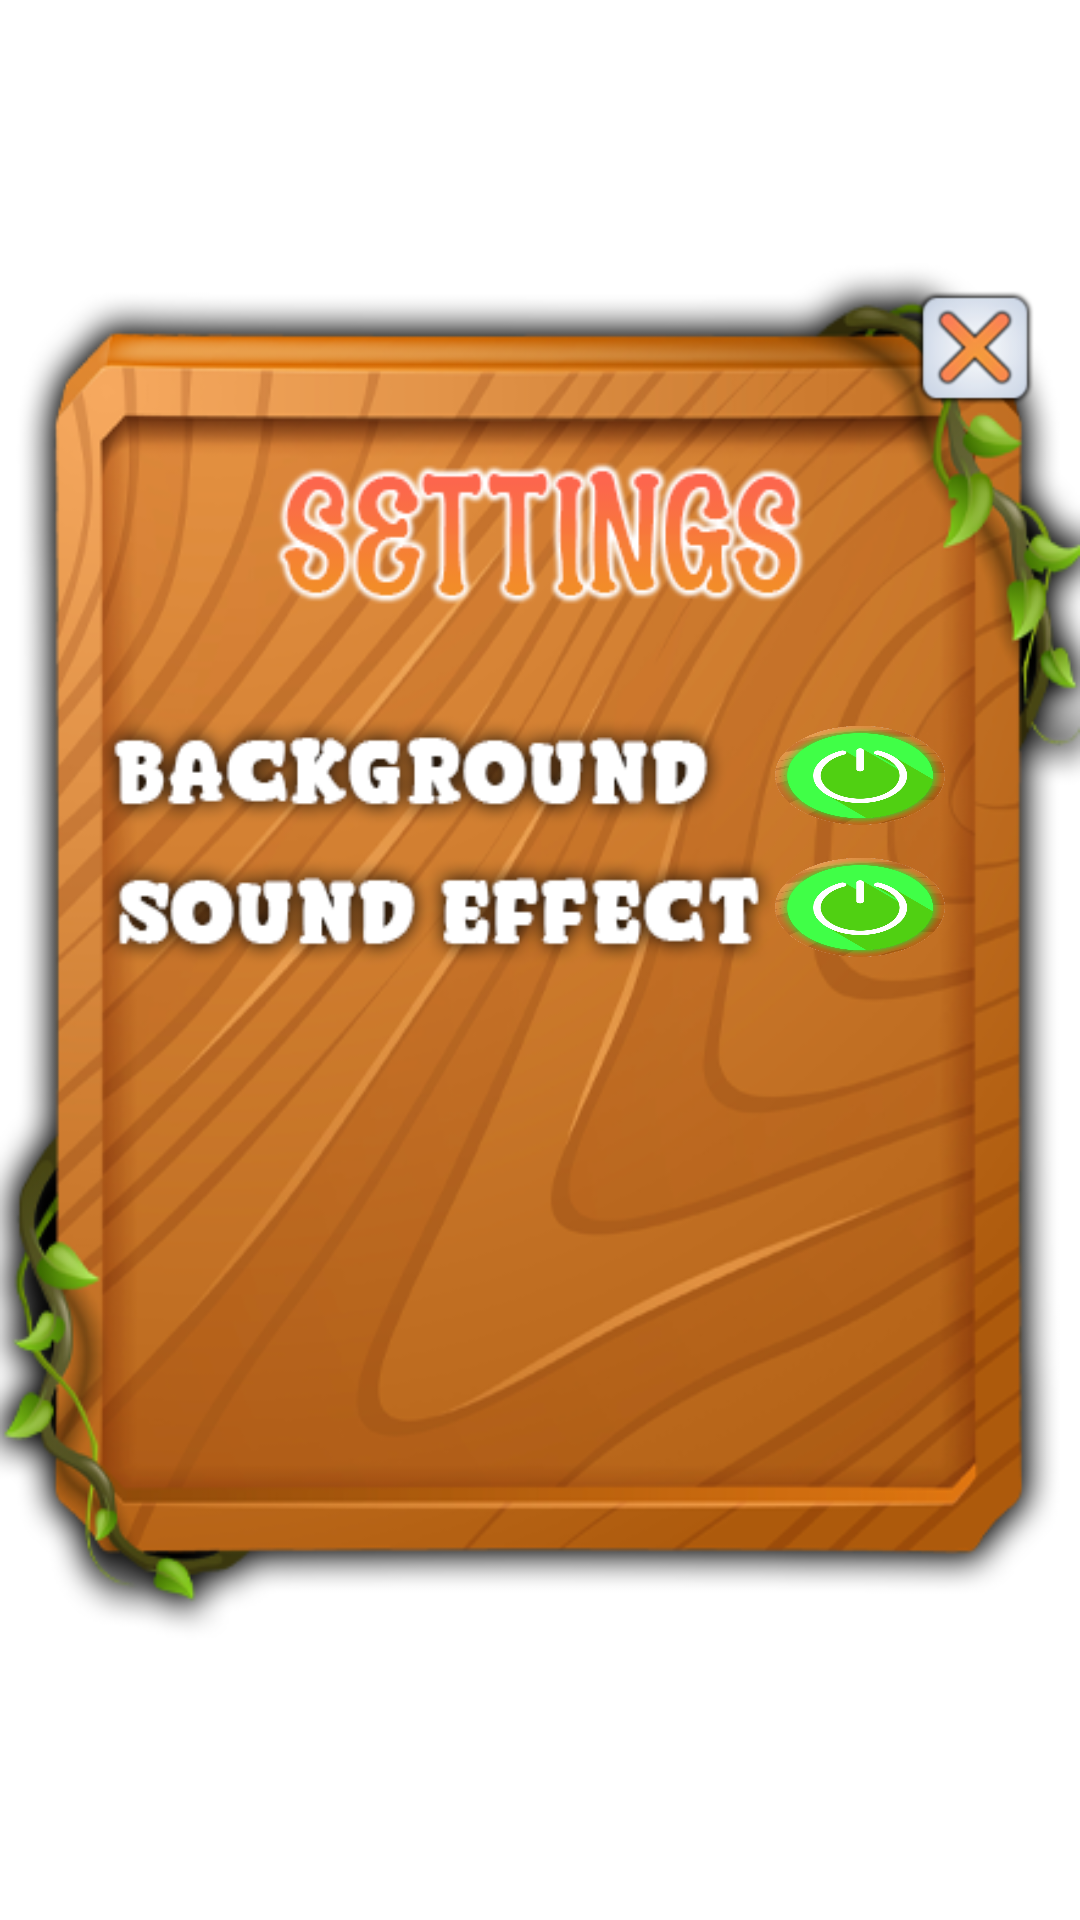

Icons on this 1080 x 1920 Android screen, each with the point to tap as (x=x, y=y):
close: (x=975, y=348)
